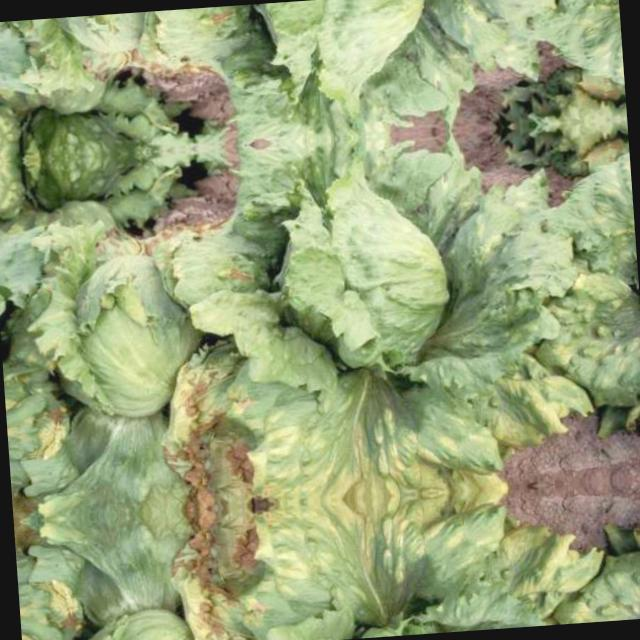Lettuce - Anthracnose: (0, 139, 589, 520), (14, 480, 599, 640), (0, 0, 563, 144)
